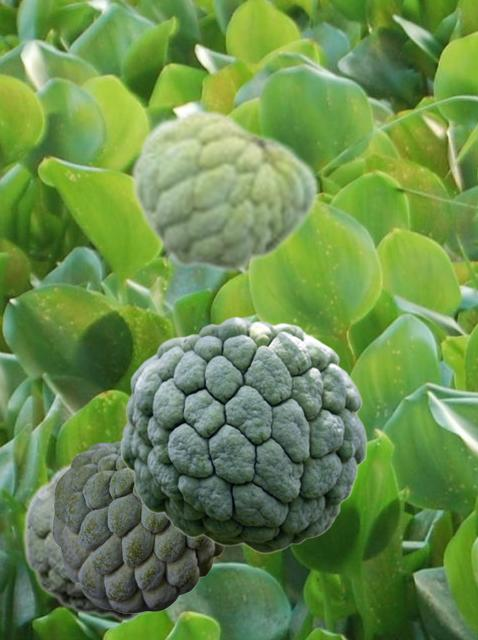atis: (120, 316, 366, 553), (129, 107, 318, 274), (52, 441, 224, 612), (22, 461, 158, 621)
